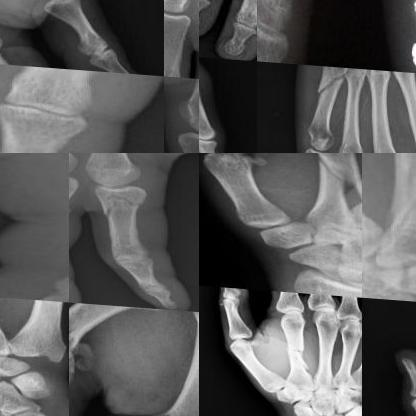fracture: (300, 153, 363, 203), (372, 153, 415, 224), (94, 186, 146, 220), (314, 63, 350, 100), (284, 333, 312, 372)
